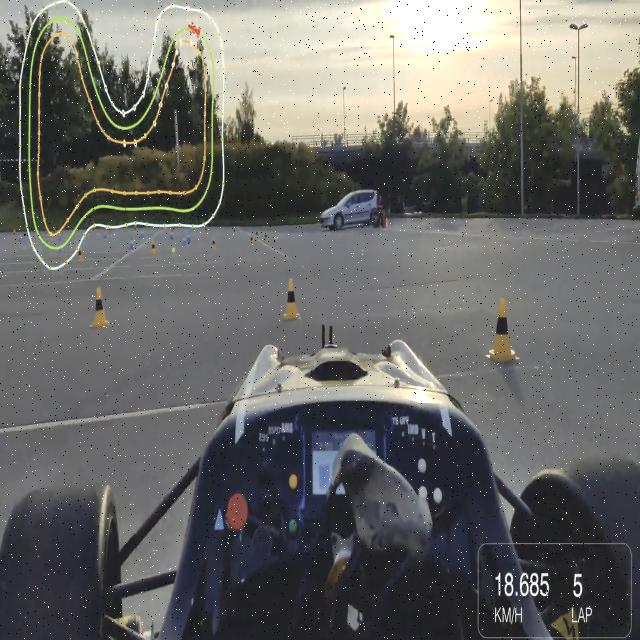yellow_cone: (488, 292, 520, 378), (276, 272, 304, 322), (89, 278, 109, 334)
